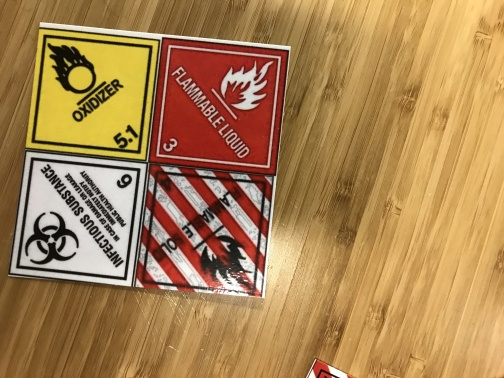FlammableLiquid: (149, 38, 290, 175)
FlammableSolid: (132, 163, 276, 295)
InfectiousSubstance: (10, 151, 147, 288)
Oxidizer: (24, 27, 160, 162)
